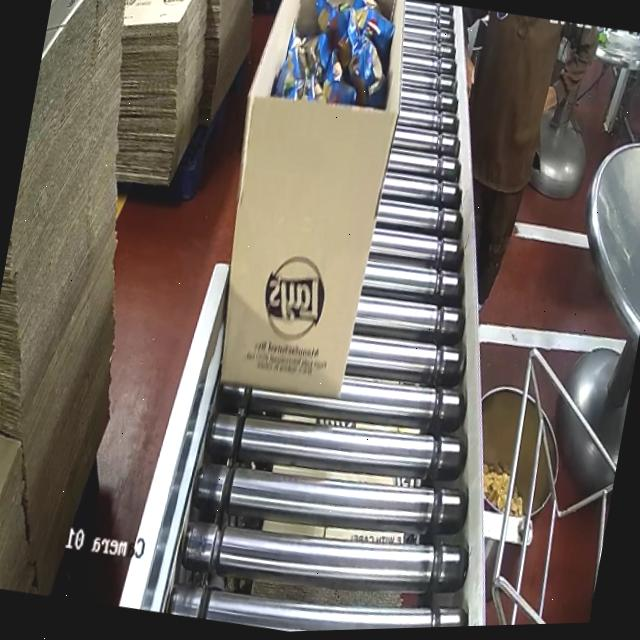PAPRIKA: (265, 0, 401, 133)
